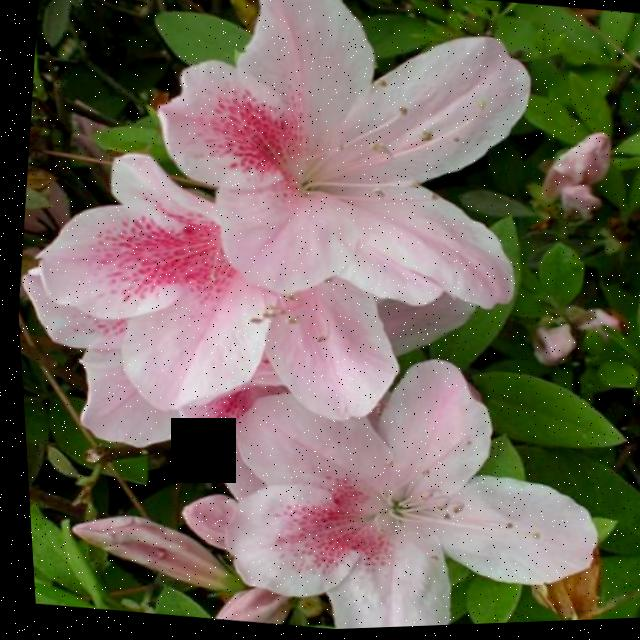azalea: (142, 0, 563, 329), (180, 357, 615, 635), (23, 145, 410, 432)
